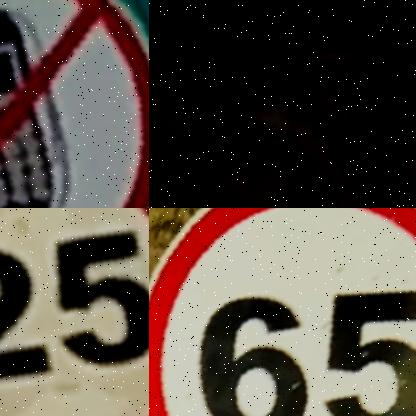No Mobile Allowed: (0, 0, 149, 208)
No right turn: (149, 59, 389, 208)
Speed Limit (25 kmph): (0, 208, 149, 416)
Speed Limit (65 kmph): (149, 208, 416, 416)
